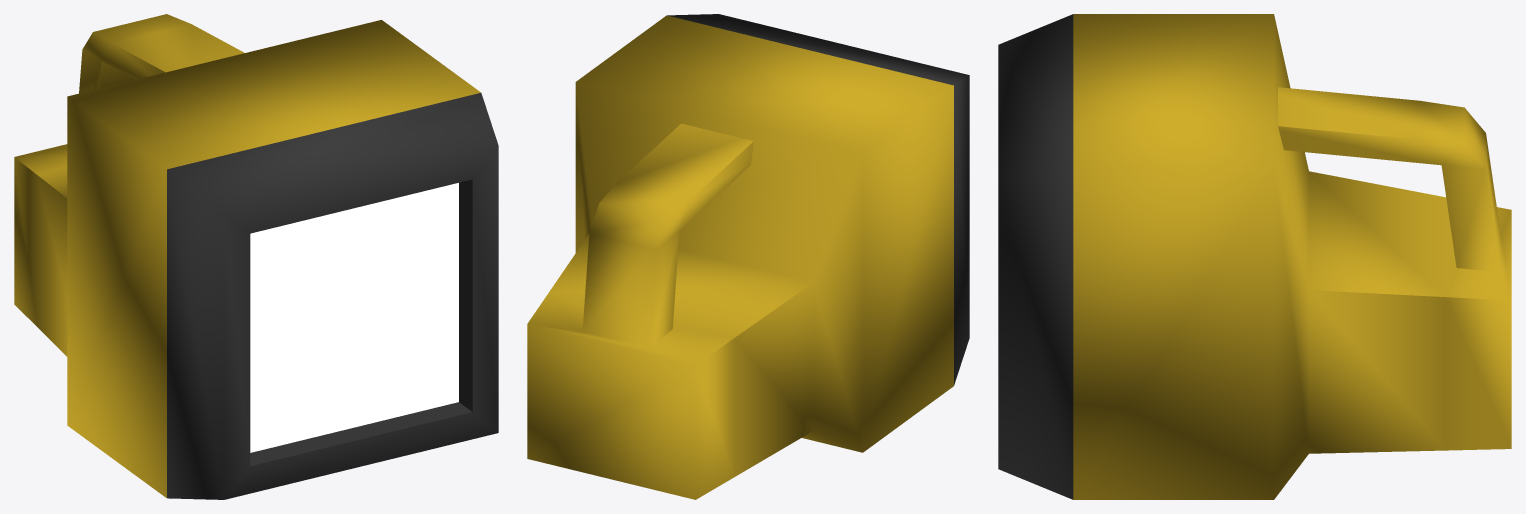
Rendered from Torch.fbx.
3 renders of one model, left to right at view 1: azimuth 30°, elevation 25°; view 2: azimuth 150°, elevation 25°; view 3: azimuth 270°, elevation 25°, orthographic. The views are drawn at different scales.
Parts seen in each view (by area): view 1: Torch; view 2: Torch; view 3: Torch.
Part boxes in pixels (box(x1,y1,x2,y2)): Torch: box(14, 14, 498, 499); Torch: box(527, 14, 969, 499); Torch: box(998, 14, 1511, 499).
Size of the model in its own units: 0.4316 by 0.4316 by 0.6059.
